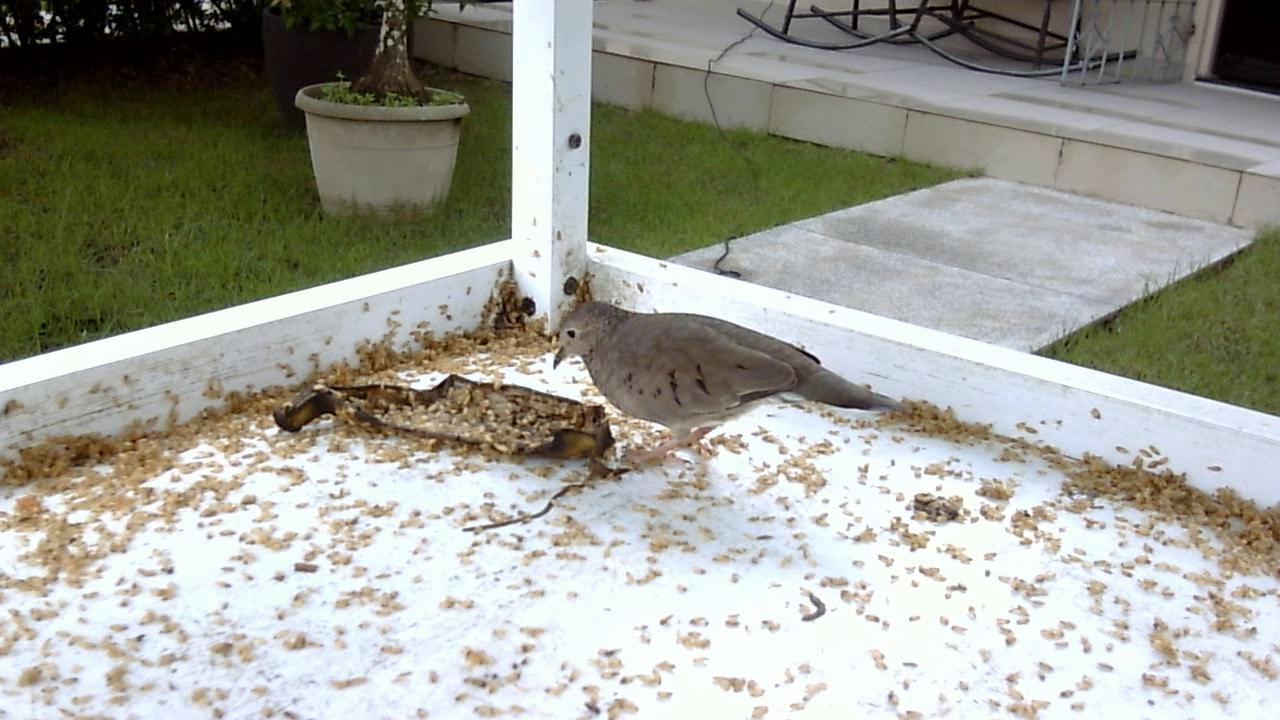rolinha: (539, 293, 895, 478)
